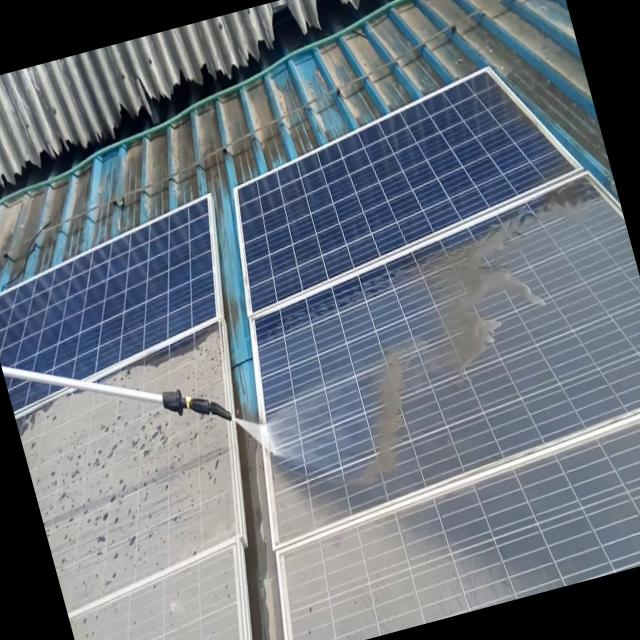faulty: (211, 170, 640, 640), (0, 205, 321, 640)
